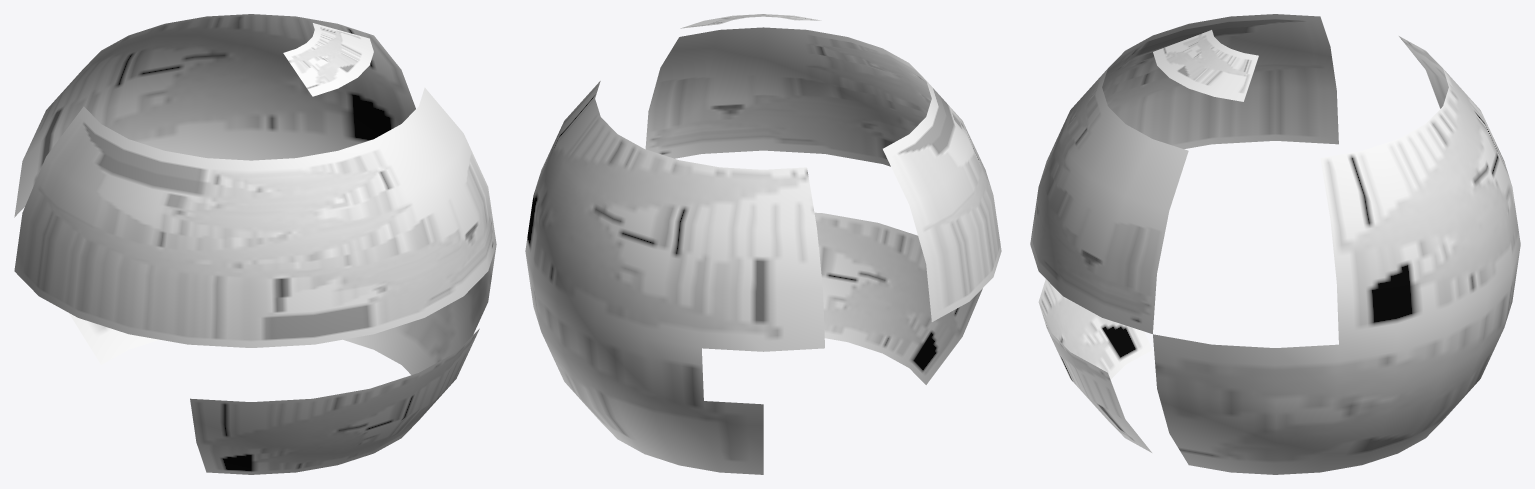
The model's file is Stretch_Blur01.FBX.
The picture shows the model from 3 angles, left to right: view 1: azimuth 30°, elevation 25°; view 2: azimuth 150°, elevation 25°; view 3: azimuth 270°, elevation 25°; orthographic projection. The views are drawn at different scales.
Parts seen in each view (by area): view 1: Sphere006; view 2: Sphere006; view 3: Sphere006.
Part boxes in pixels (left/top/right/bottom): Sphere006: left=14, top=14, right=496, bottom=474; Sphere006: left=525, top=14, right=1001, bottom=474; Sphere006: left=1030, top=14, right=1520, bottom=474.
Bounding box in the file's own units: 75.52 × 63.18 × 75.52.
Materials: 1 (1 with a texture image).
